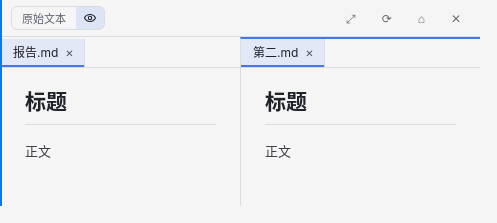
Test: DocumentPanel › splits into two groups and collapses when the second group empties
Check: the number of elements with class "doc-group" is 2, box left=1, top=37, right=240, bottom=206; left=240, top=37, right=480, bottom=206
Note: Close the side group's only tab: the split collapses to one group.
Click the button named "关闭标签" at (309, 53), box left=302, top=46, right=316, bottom=60
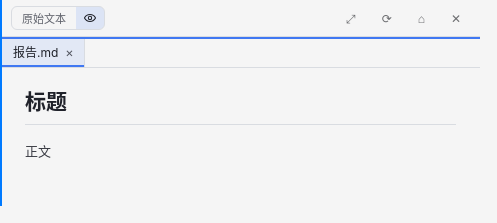
Check: the number of elements with class "doc-group" is 1
